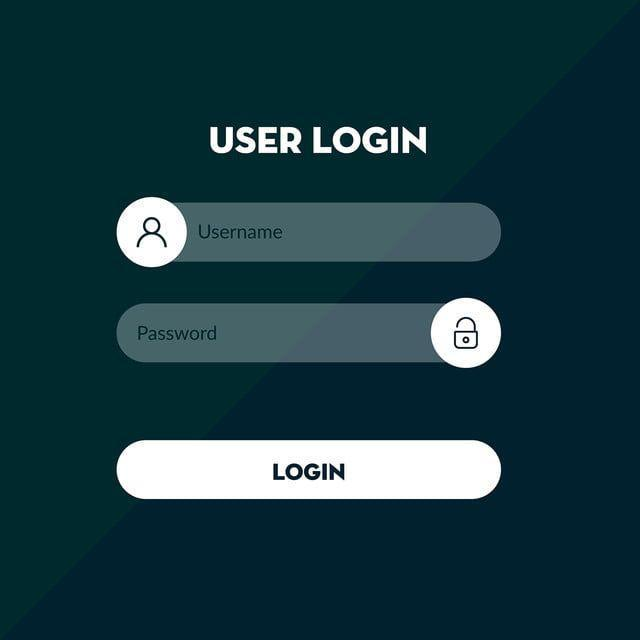button: (118, 436, 505, 503)
icon: (447, 314, 488, 354), (138, 211, 171, 260)
input: (121, 300, 501, 374), (120, 199, 501, 268)
